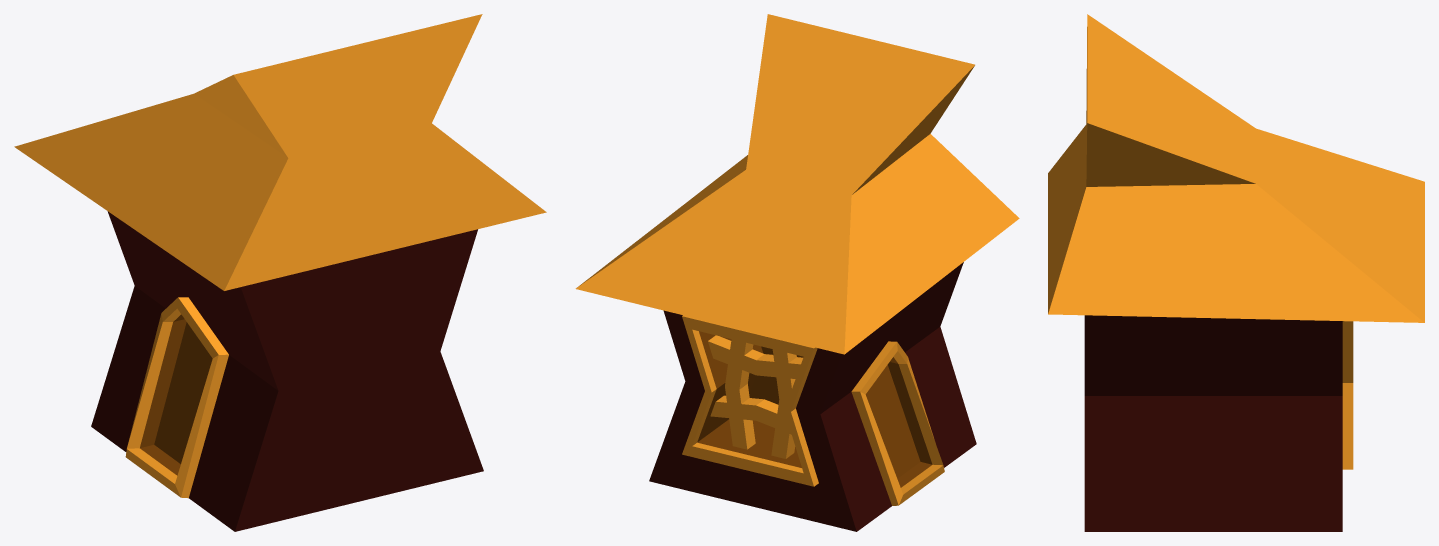
File: casaDeck.fbx
The picture shows the model from 3 angles, left to right: view 1: azimuth 30°, elevation 25°; view 2: azimuth 150°, elevation 25°; view 3: azimuth 270°, elevation 25°; orthographic projection. The views are drawn at different scales.
Visible parts, largest first — view 1: casinhaDeck; view 2: casinhaDeck; view 3: casinhaDeck.
Part boxes in pixels (bbox=[...]): casinhaDeck: bbox=[14, 14, 546, 531]; casinhaDeck: bbox=[575, 14, 1019, 531]; casinhaDeck: bbox=[1048, 14, 1424, 531].
Size of the model in its own units: 805 by 964 by 714.
